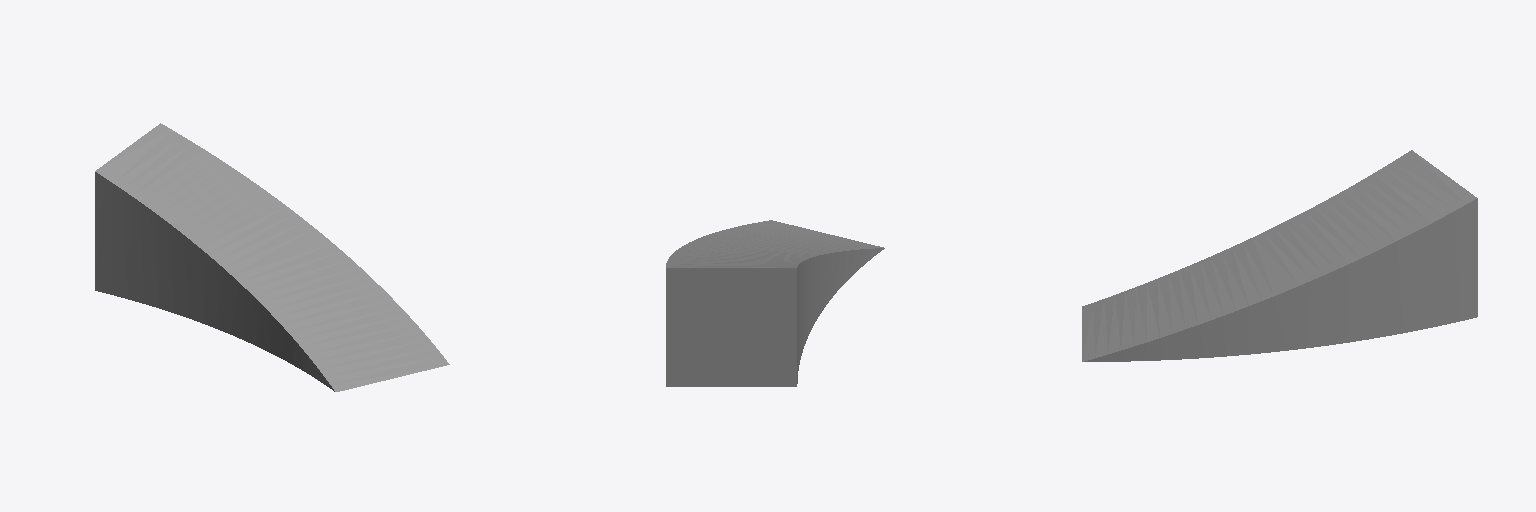
File: ramp1_counterclockwise.obj
The picture shows the model from 3 angles: view 1: azimuth 30°, elevation 25°; view 2: azimuth 150°, elevation 25°; view 3: azimuth 270°, elevation 25°; orthographic projection.
Visible parts, largest first — view 1: MeshBody10; view 2: MeshBody10; view 3: MeshBody10.
Part boxes in pixels (x1,y1,x2,y2): MeshBody10: (95, 123, 449, 391); MeshBody10: (666, 220, 884, 386); MeshBody10: (1082, 150, 1477, 361).
Size of the model in its own units: 8.35 by 5 by 15.